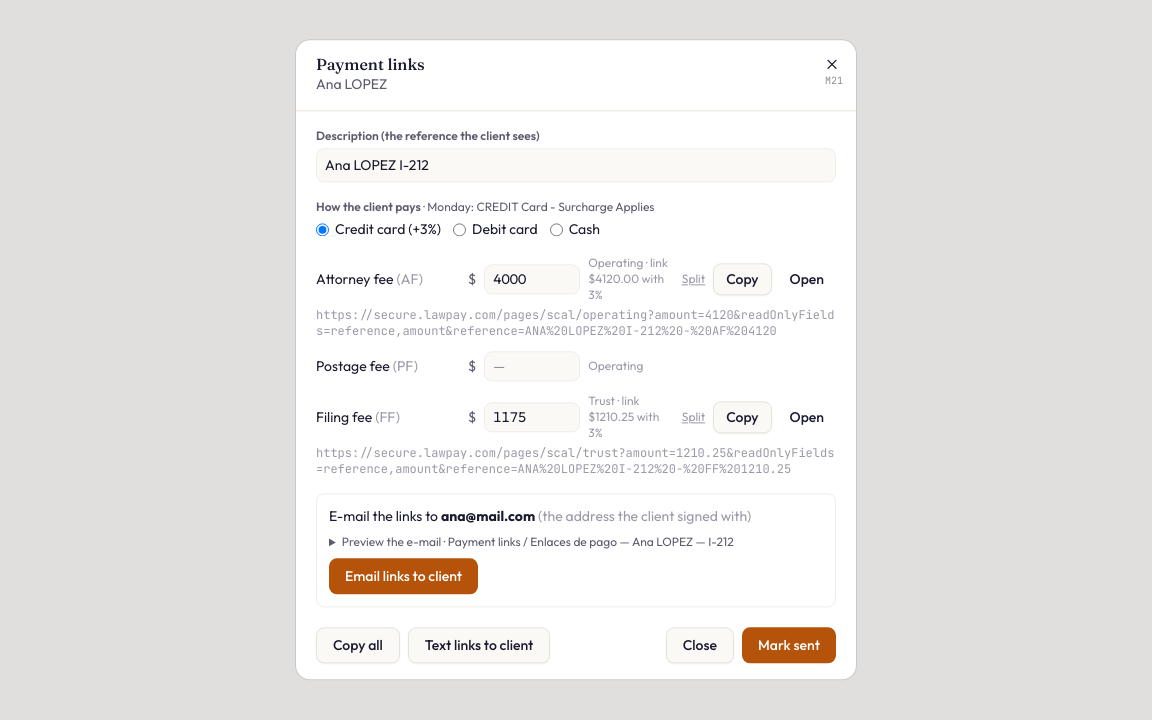
Test: PaymentLinksModal → Email links to client (contracts signed in the app) › credit: links carry 3%; one bilingual e-mail to the signer, then marked sent
Click the button "Email links to client".
click(404, 577)  # box x1=329 y1=559 x2=478 y2=595
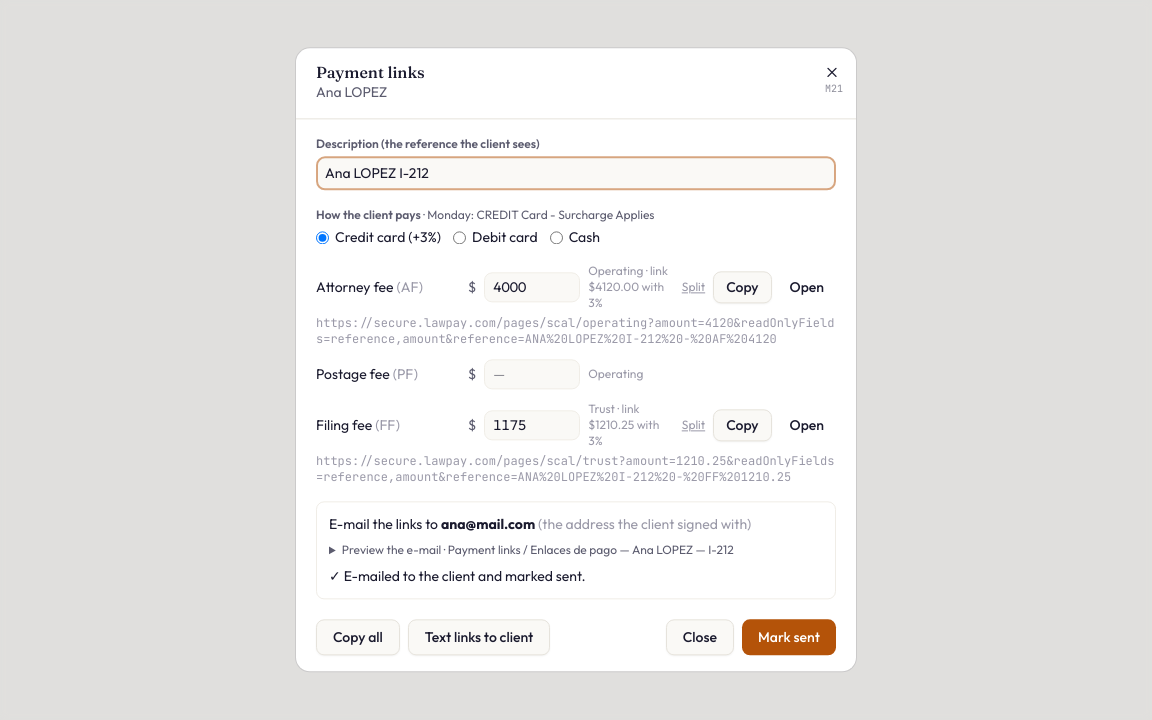
Expected: the text "E-mailed to the client and marked sent" is shown, x1=329 y1=568 x2=586 y2=586
